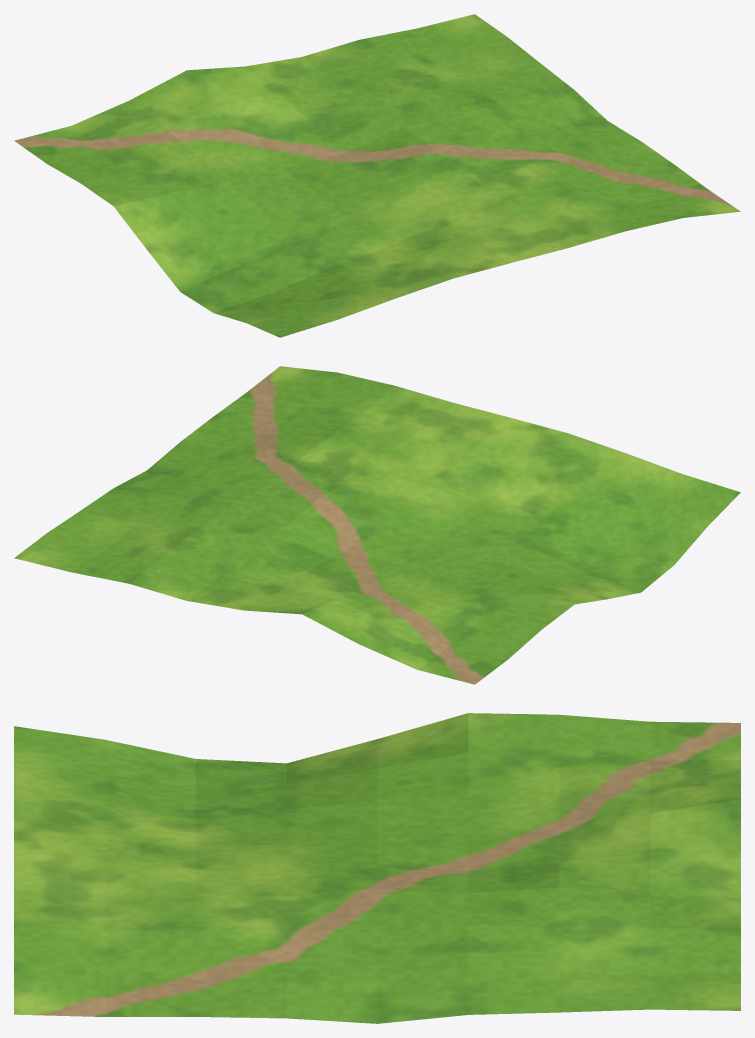
Rendered from chunk_1_0_far.fbx.
3 views of the same model, one above another, from view 1: azimuth 30°, elevation 25°; view 2: azimuth 150°, elevation 25°; view 3: azimuth 270°, elevation 25° (orthographic). The views are drawn at different scales.
Parts seen in each view (by area): view 1: chunk_1_0_far; view 2: chunk_1_0_far; view 3: chunk_1_0_far.
Boxes of the visible parts, x1=… form: chunk_1_0_far: x1=14, y1=14, x2=740, y2=337; chunk_1_0_far: x1=14, y1=366, x2=740, y2=684; chunk_1_0_far: x1=14, y1=713, x2=740, y2=1023.
Size of the model in its own units: 6400 by 6400 by 767.
Materials: 1 (1 with a texture image).
